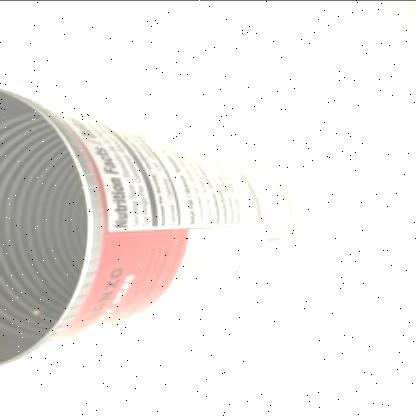Can: (0, 84, 296, 366)
